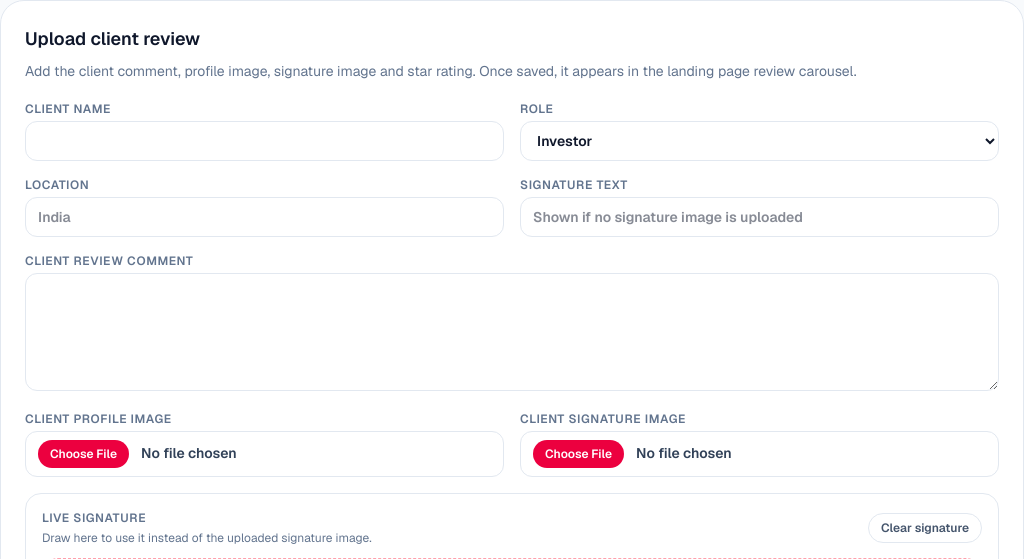
Test: AdminClientReviews › offers a free-text role only once Custom is chosen
This screenshot has width=1024, height=559.
Expected: the field labelled "Custom role" is not shown
Select "Custom" in the dropdown labelled "Role" at (760, 141), box [520,121,999,161]
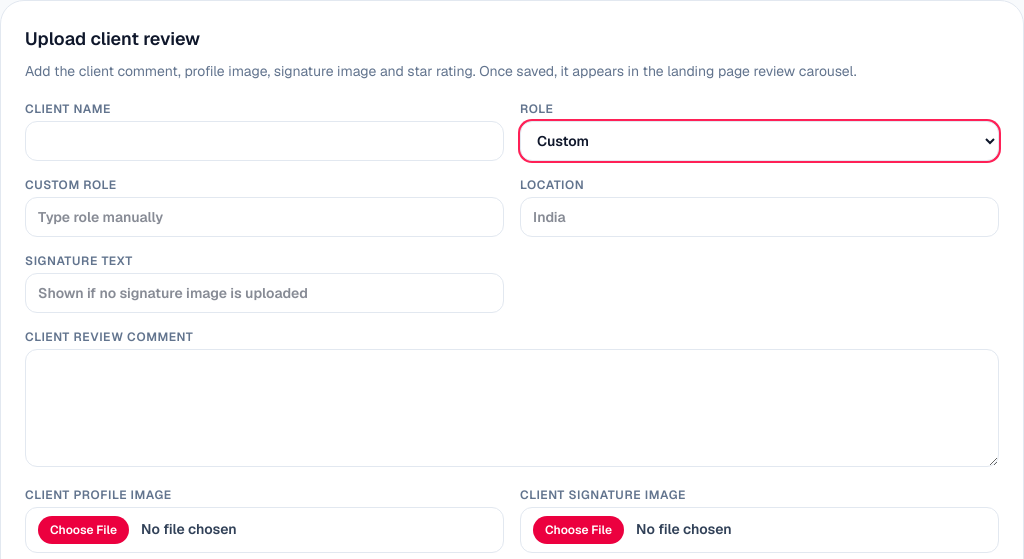
Now the field labelled "Custom role" is shown, box [25,197,504,237]
